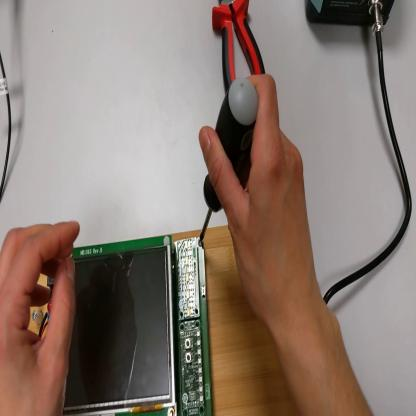hand: (190, 68, 323, 321), (2, 214, 88, 415)
low voltage board: (36, 218, 216, 415)
pliers: (212, 2, 267, 86)
screwdriver-: (195, 72, 257, 246)
welder station: (304, 1, 395, 41)
working area: (29, 228, 301, 413)
